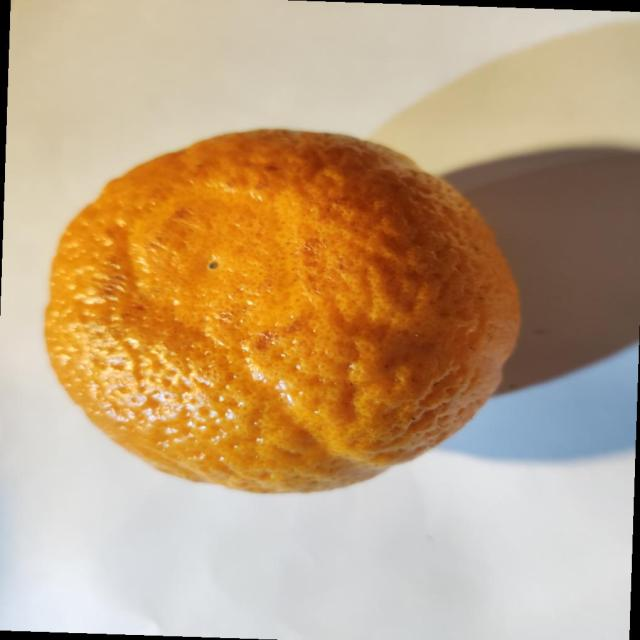fresh orange: (43, 126, 522, 495)
